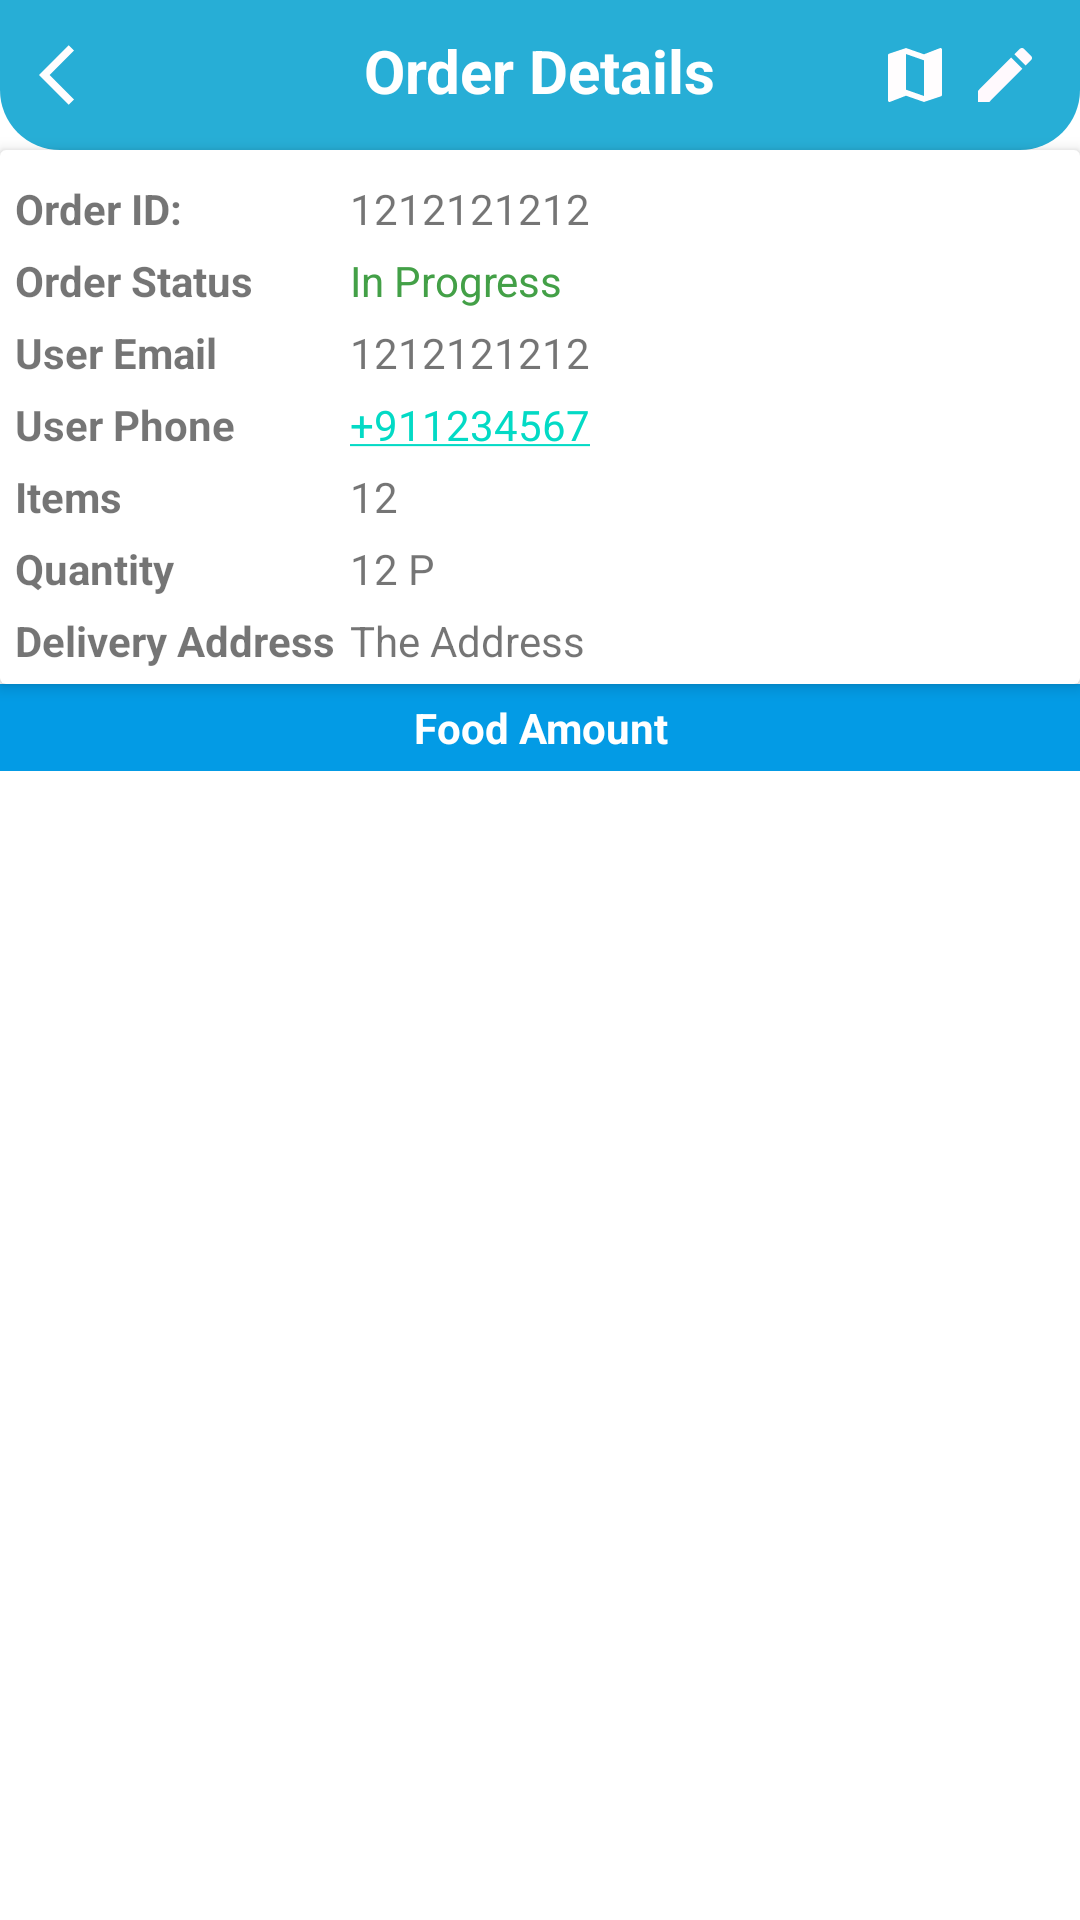

Where to tap for icons on this 1080px x 1920px app screen, as (x,y):
back: (56,75)
edit: (1005,75)
map: (915,75)
